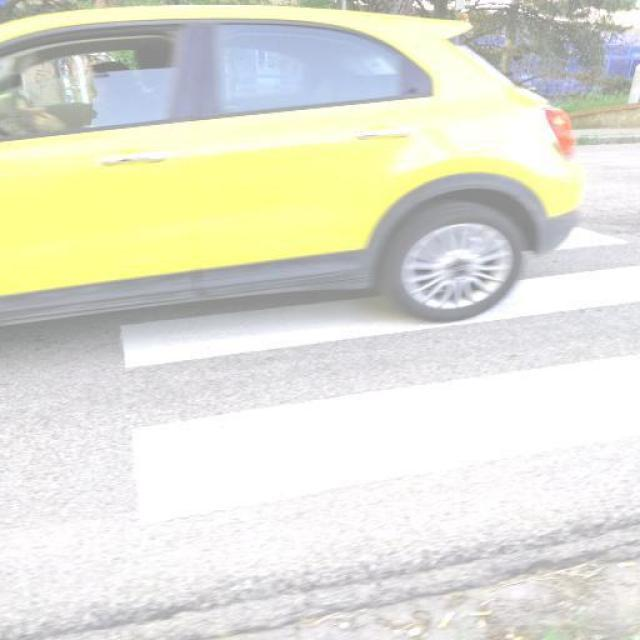crosswalk: (123, 226, 640, 528)
